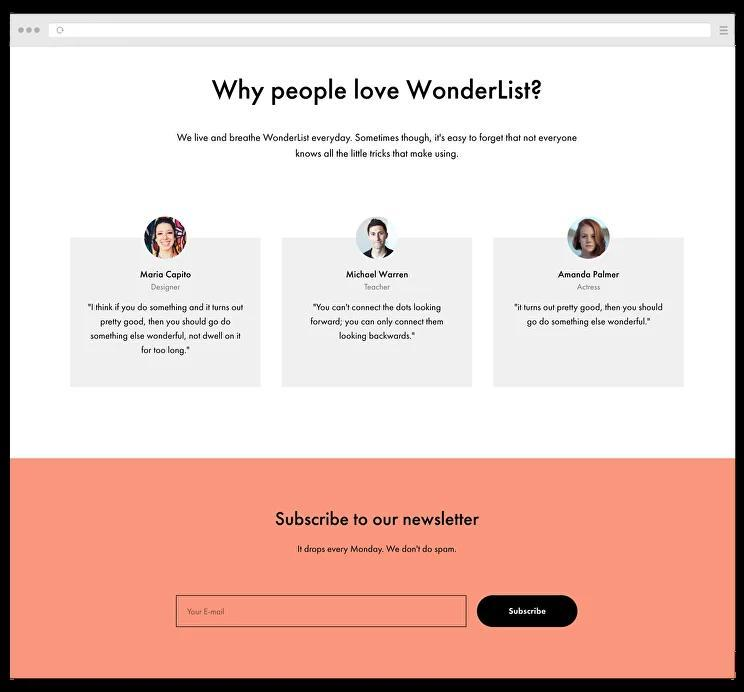button: (478, 596, 579, 628)
input: (177, 596, 469, 628)
